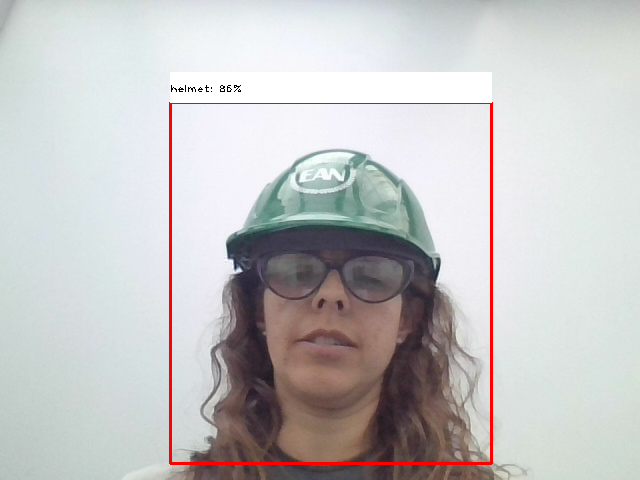casco: (215, 138, 445, 272)
